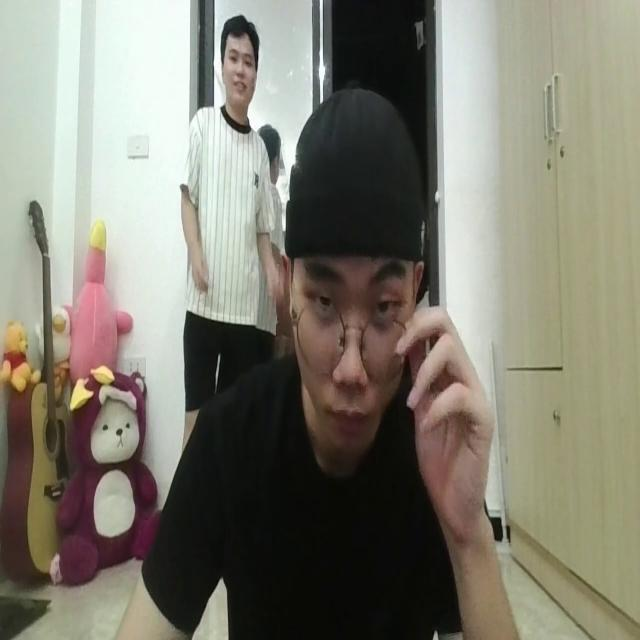extra_person: (182, 9, 286, 396)
student: (132, 80, 506, 640)
